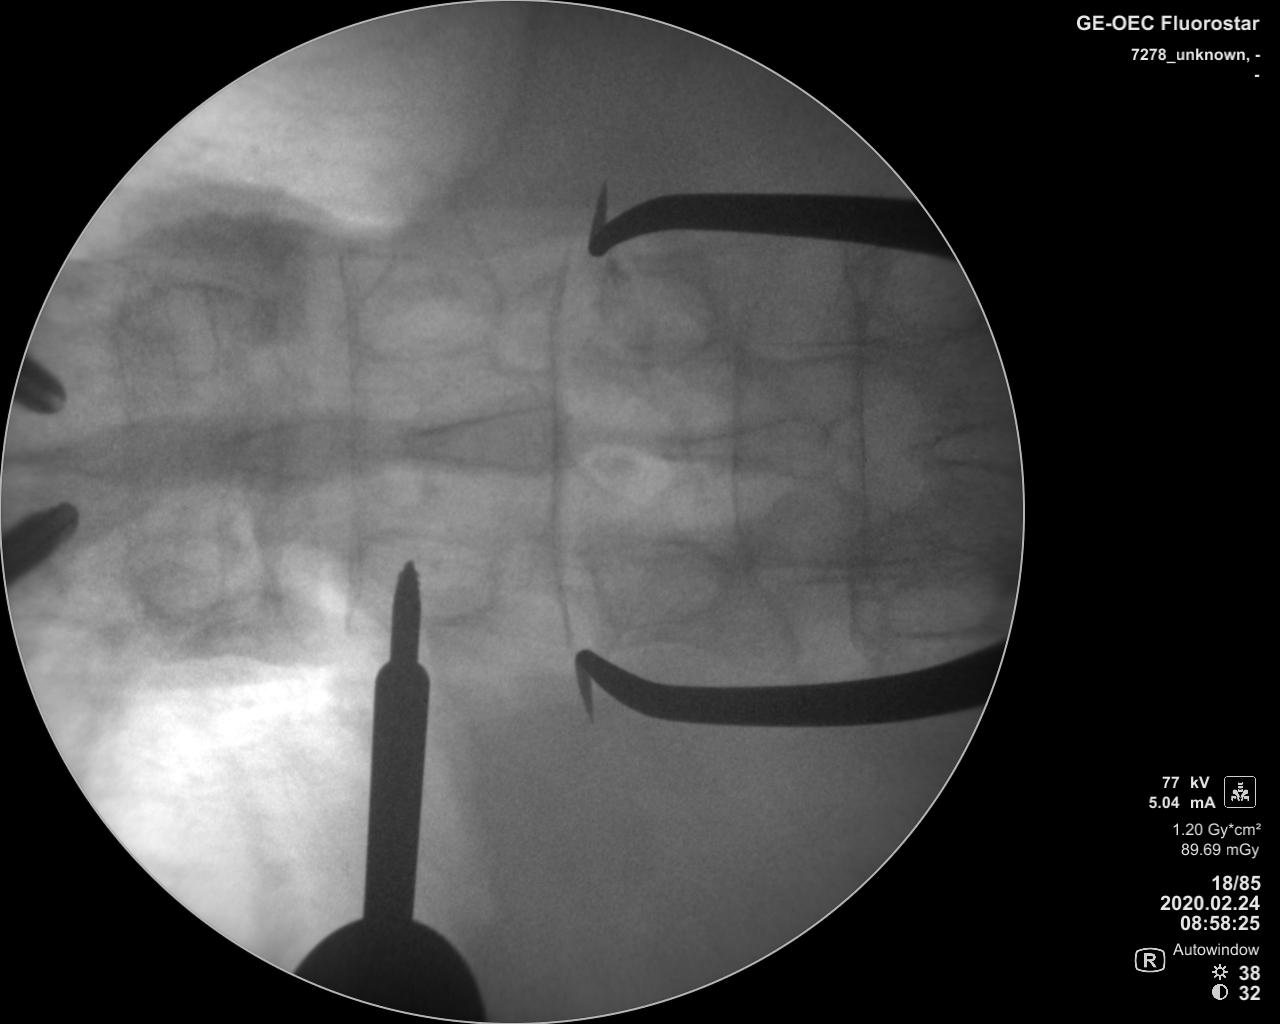eyes: (353, 252, 503, 362), (860, 535, 1005, 636), (360, 531, 502, 628), (123, 283, 261, 378), (586, 272, 719, 368), (588, 534, 734, 621), (122, 528, 241, 626)
line: (338, 254, 371, 643), (546, 238, 576, 651), (844, 263, 877, 552), (730, 290, 755, 608)
nose: (399, 403, 594, 474), (31, 415, 223, 486), (660, 414, 839, 485), (224, 417, 395, 478), (915, 418, 1018, 472)
